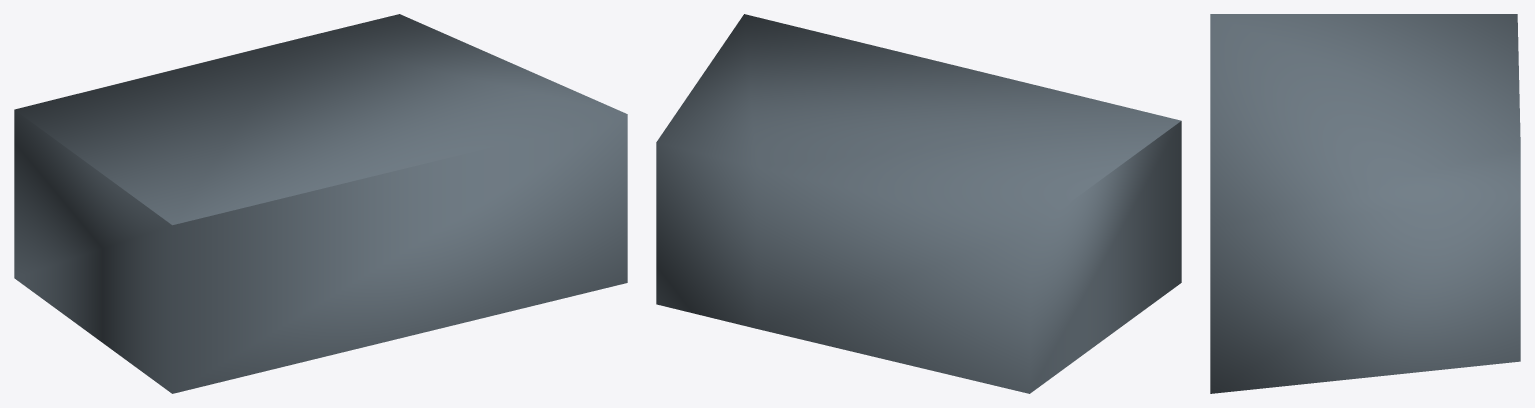
File: Pieza3Puente.fbx
3 views of the same model, side by side, from view 1: azimuth 30°, elevation 25°; view 2: azimuth 150°, elevation 25°; view 3: azimuth 270°, elevation 25° (orthographic). The views are drawn at different scales.
Visible parts, largest first — view 1: Puente.003; view 2: Puente.003; view 3: Puente.003.
Boxes of the visible parts, <box> form: Puente.003: <box>14,14,627,393</box>; Puente.003: <box>656,14,1181,393</box>; Puente.003: <box>1210,14,1520,393</box>.
Bounding box in the file's own units: 414 × 147 × 252.
